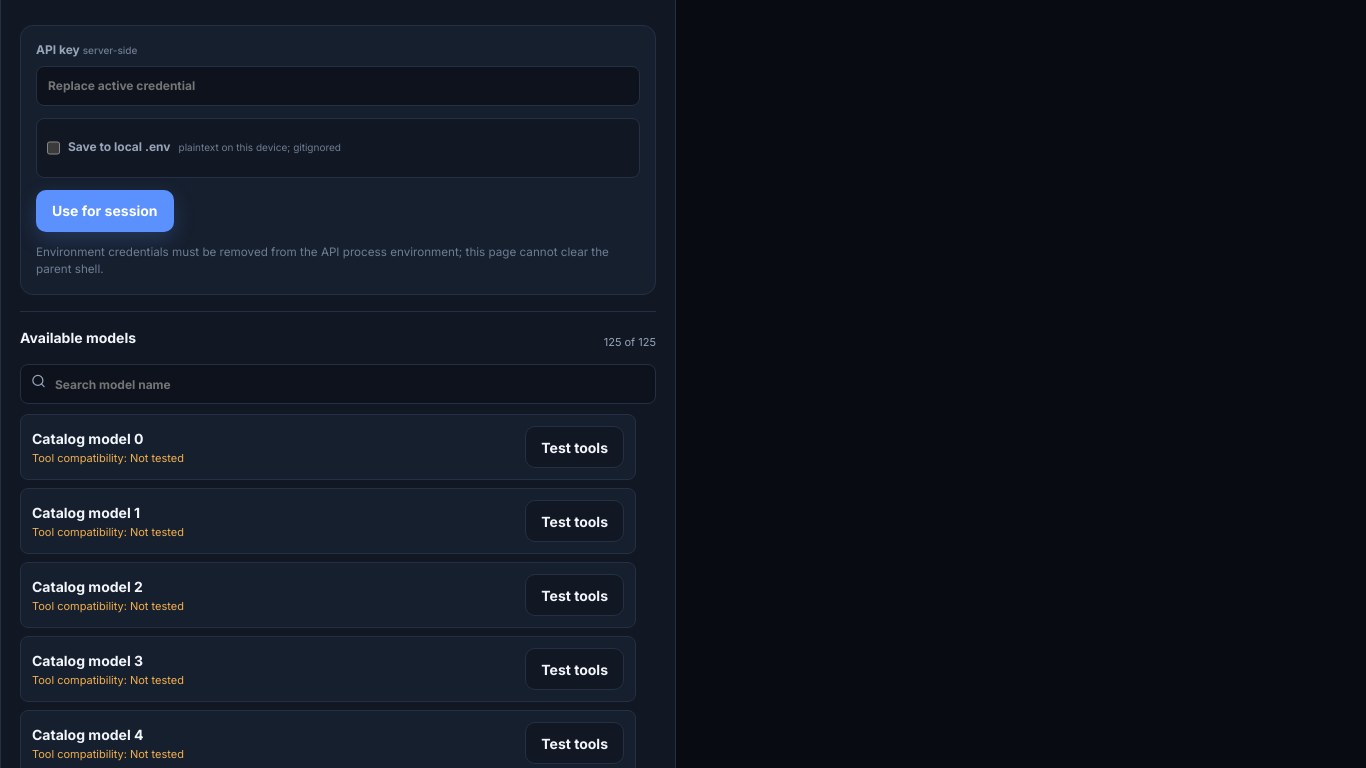
Test: large provider catalogs remain bounded and searchable
The image size is (1366, 768).
(page scrolled)
Check: the text "125 of 125" is shown, box x1=604 y1=334 x2=656 y2=351
Type "catalog-124" into the search field named "Search Anthropic models". click: (338, 384)
box: x1=20 y1=364 x2=656 y2=404
(page scrolled)
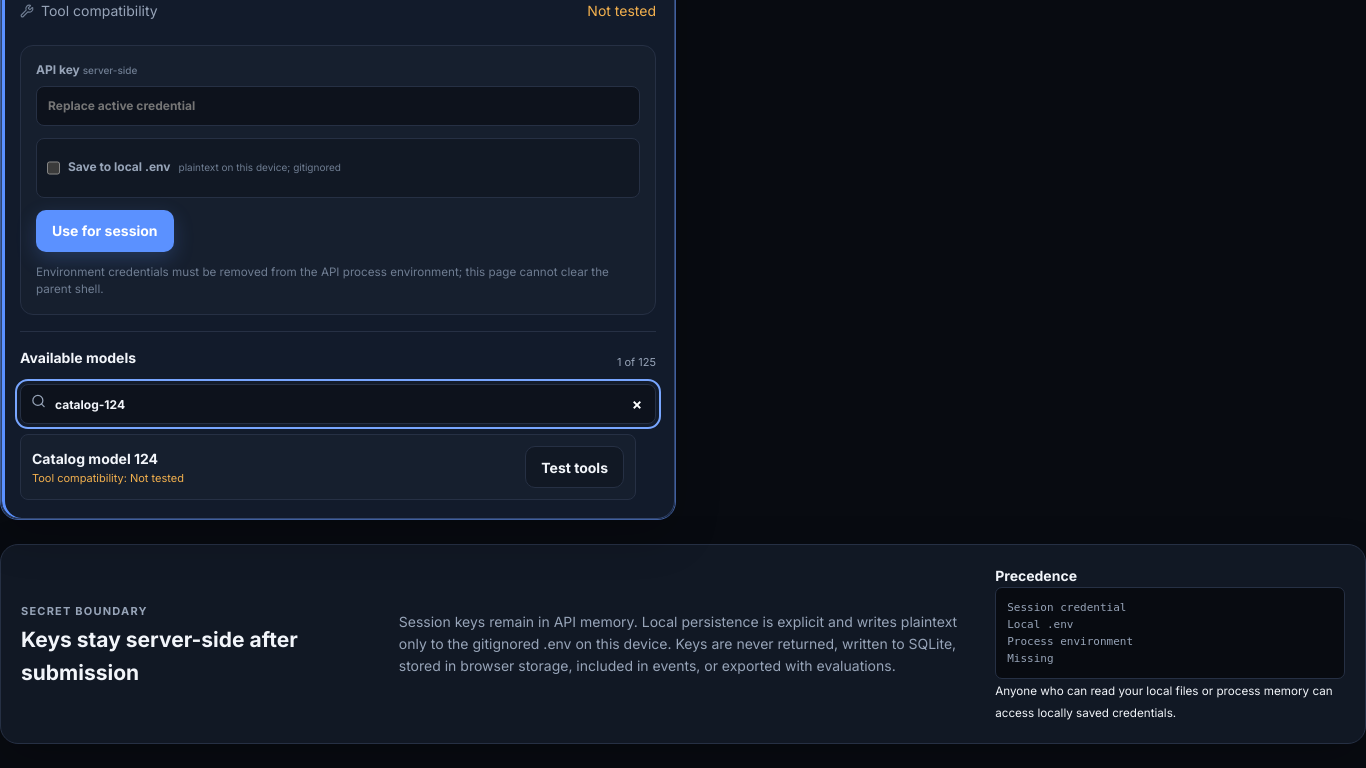
Check: the text "1 of 125" is shown, box x1=617 y1=354 x2=656 y2=371
Check: the text "Catalog model 124" is shown, box x1=32 y1=450 x2=158 y2=467
Check: the text "Catalog model 0" is gone
